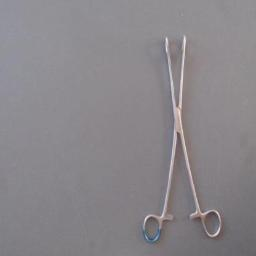Sponge Forceps: (139, 25, 227, 247)
